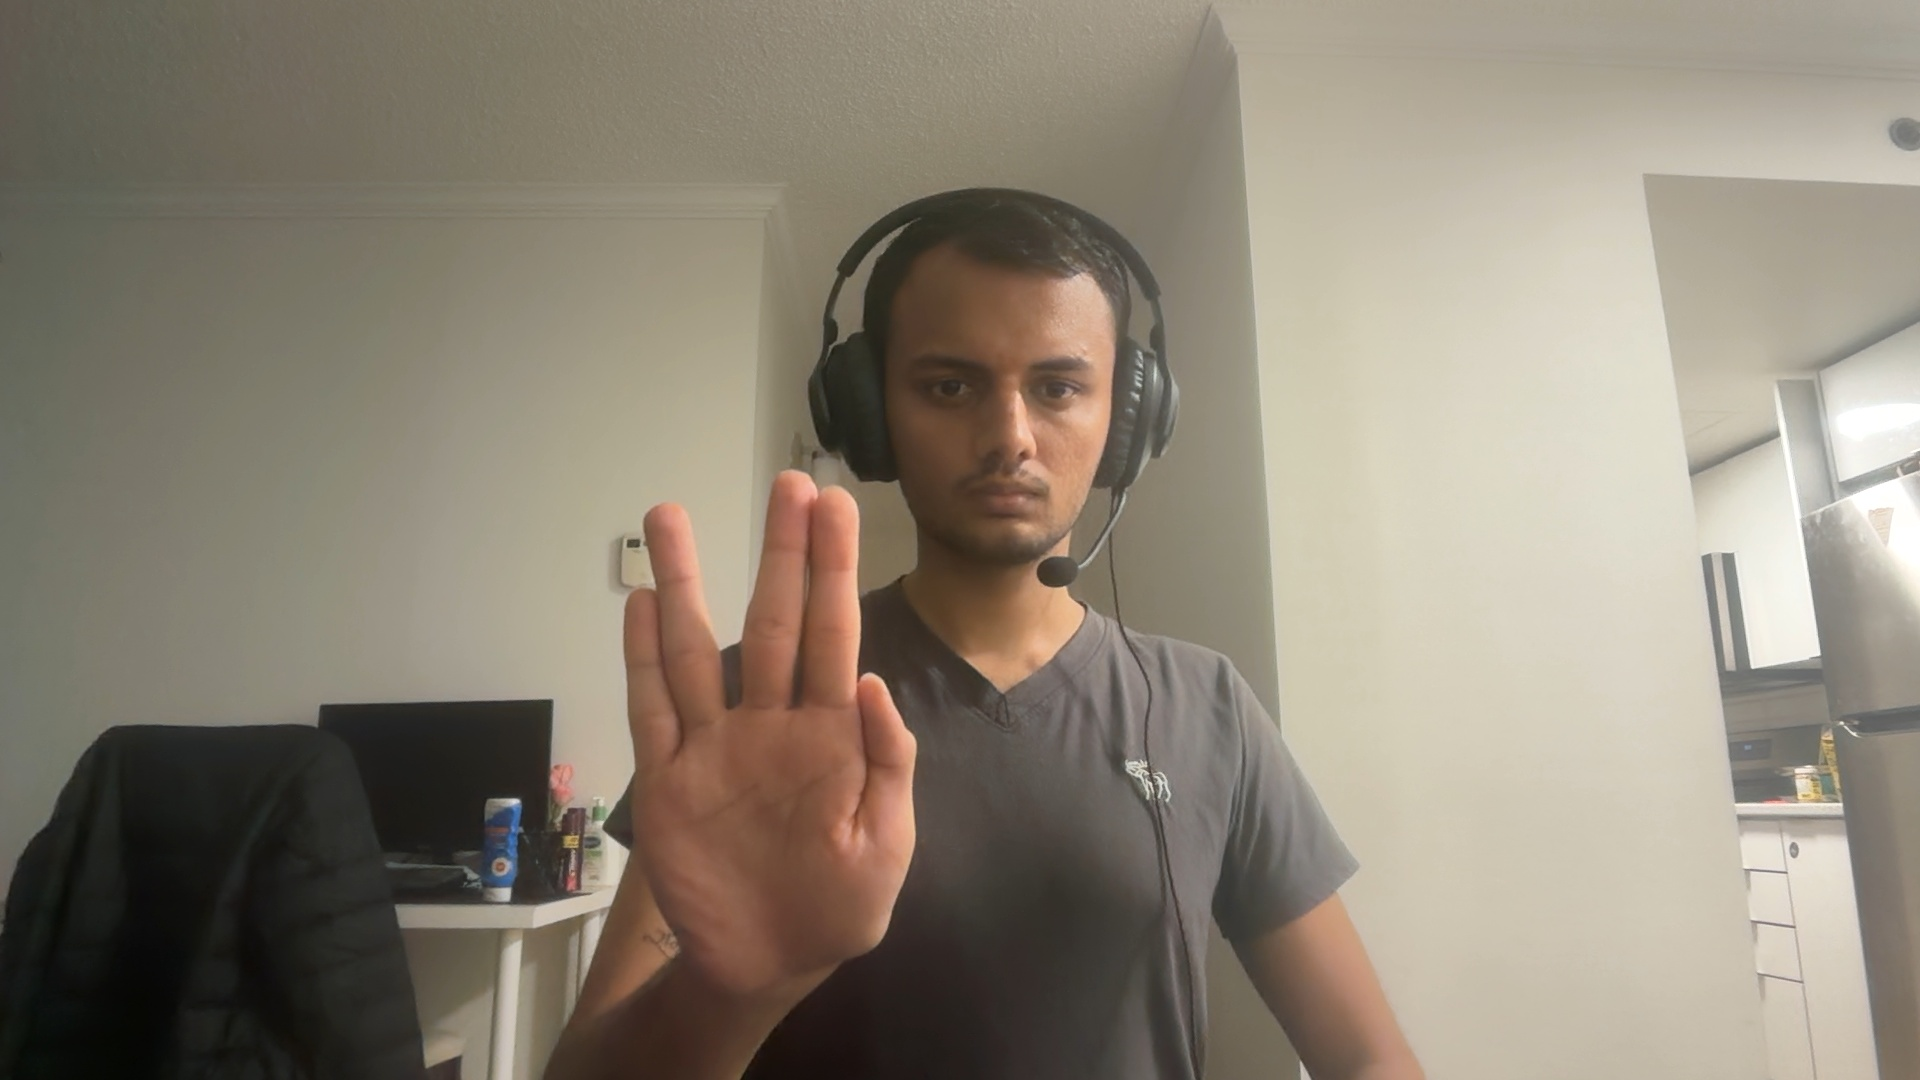livelong: (622, 473, 919, 988)
